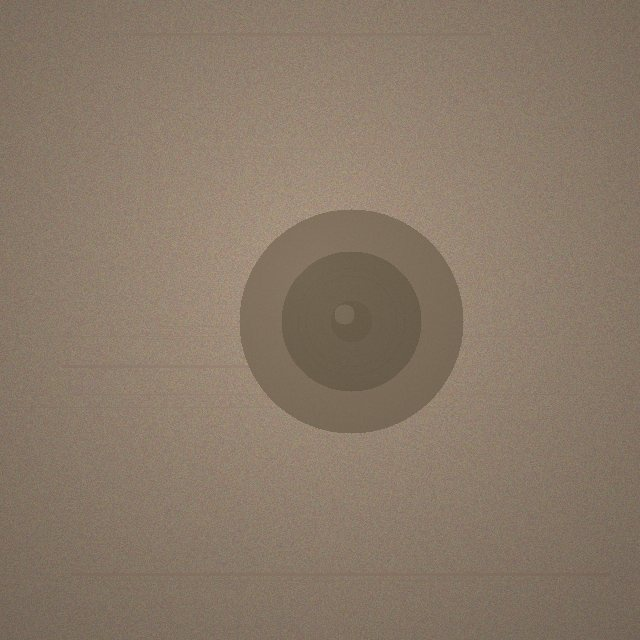good: (239, 209, 463, 433)
